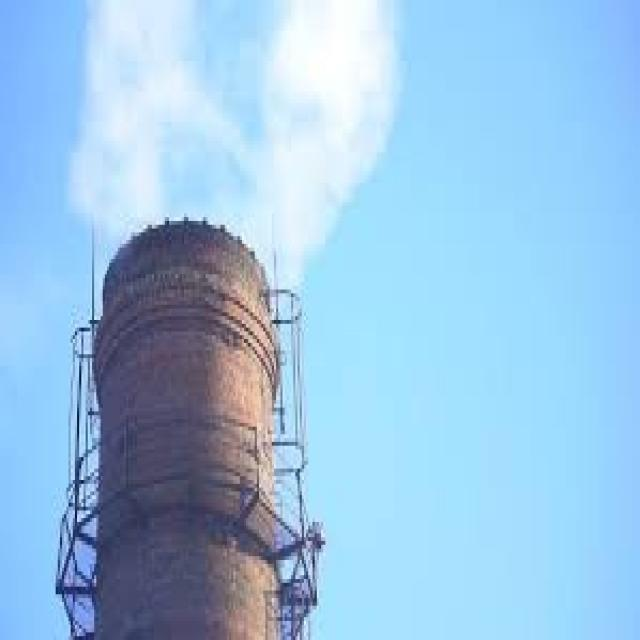Smoke: (67, 0, 410, 292)
